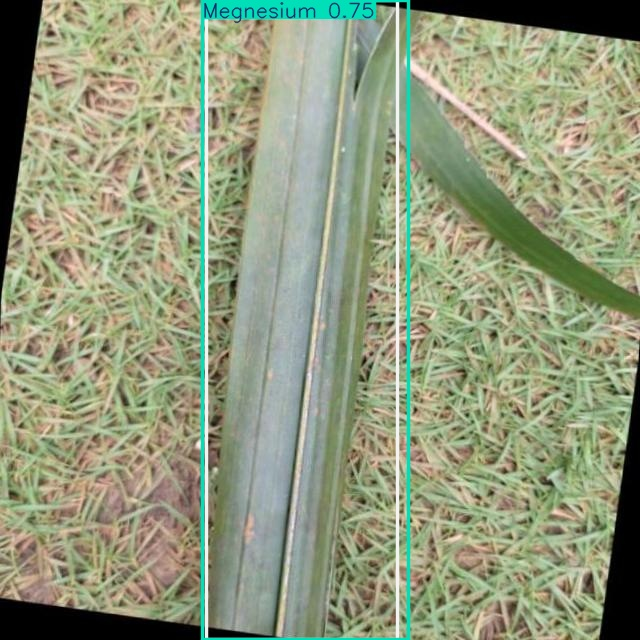Kalium: (206, 0, 397, 640)
Megnesium: (202, 1, 408, 640)
